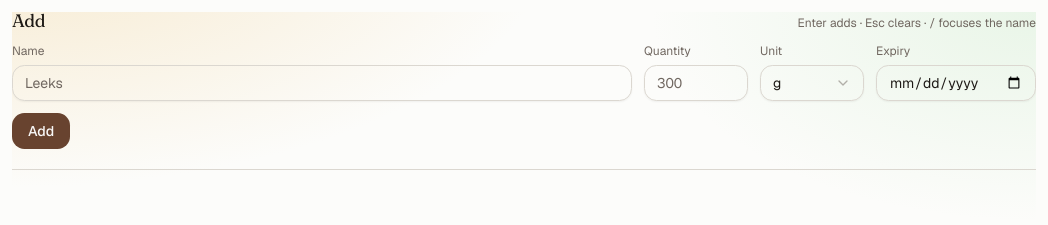
Test: QuickAdd › shows validation messages and does not submit
Click the button "Add" at (41, 131), box x1=12 y1=113 x2=70 y2=149
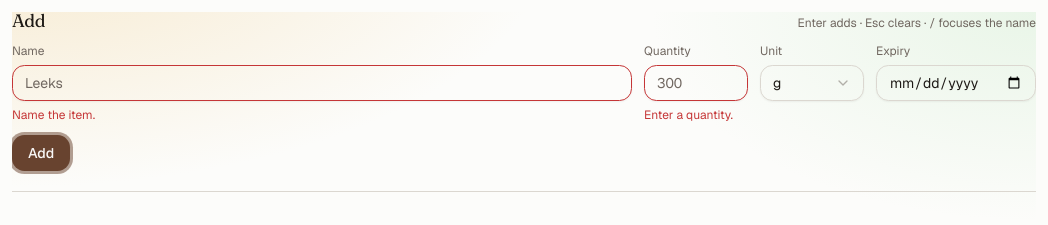
Now the text "Name the item." is shown, box x1=12 y1=107 x2=95 y2=123
Now the text "Enter a quantity." is shown, box x1=644 y1=107 x2=748 y2=123
Type "Eggs" into the field labelled "Name" at (322, 83), box x1=12 y1=65 x2=632 y2=101
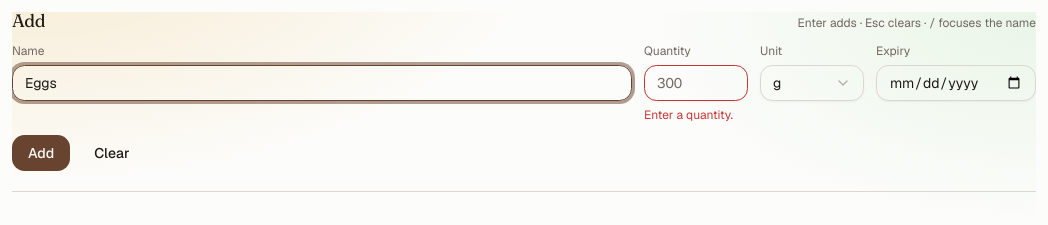
Type "-2" into the field labelled "Quantity" at (696, 83), box x1=644 y1=65 x2=748 y2=101
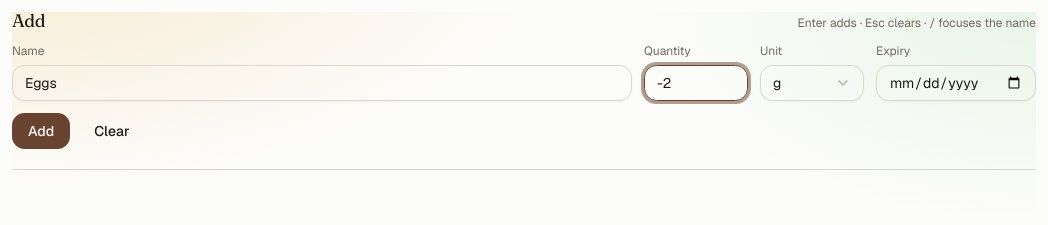
Click the button "Add" at (41, 131), box x1=12 y1=113 x2=70 y2=149
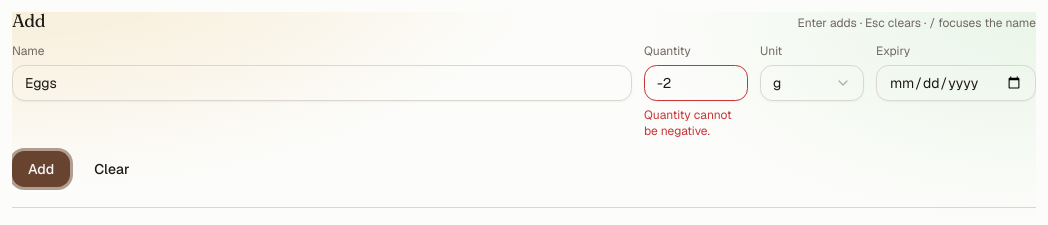
Now the text "Quantity cannot be negative." is shown, box x1=644 y1=107 x2=732 y2=139
